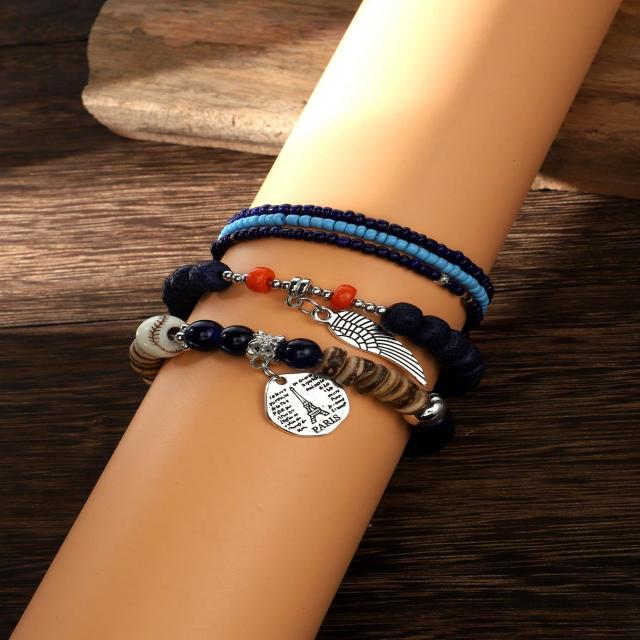bracelet: (80, 126, 564, 469)
